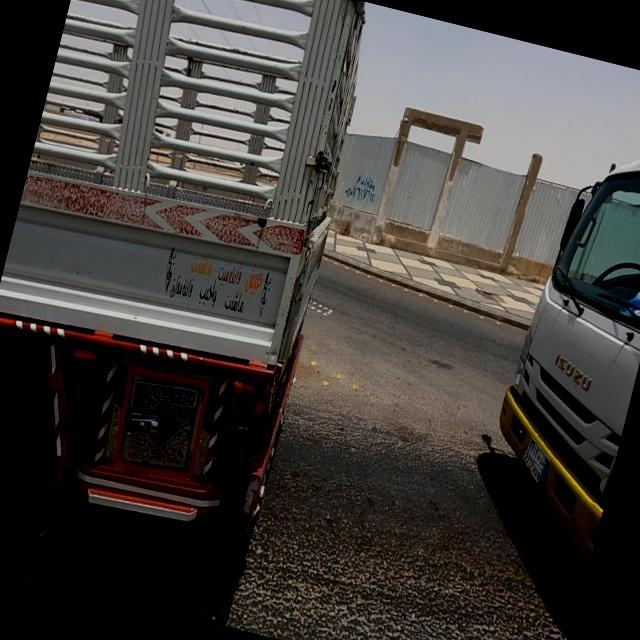debris: (308, 118, 418, 250)
